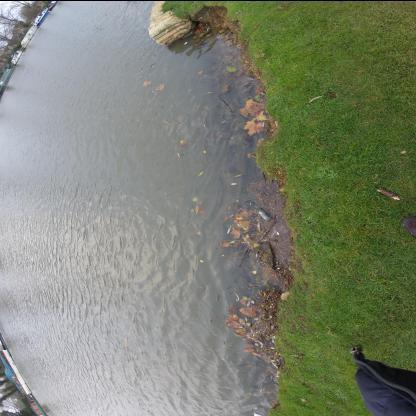cam: (253, 202, 275, 222)
